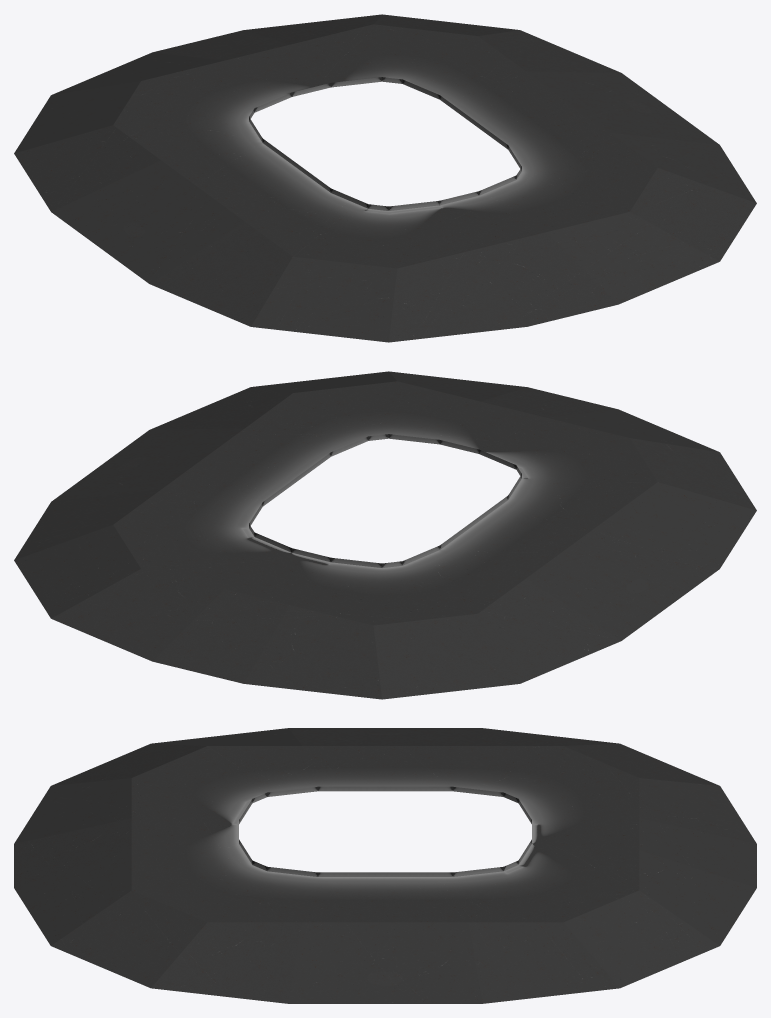
File: ceiling.FBX
The picture shows the model from 3 angles, top to bottom: view 1: azimuth 30°, elevation 25°; view 2: azimuth 150°, elevation 25°; view 3: azimuth 270°, elevation 25°; orthographic projection.
Parts seen in each view (by area): view 1: Roof; view 2: Roof; view 3: Roof.
Part boxes in pixels (x1,y1,x2,y2): Roof: (14, 14, 756, 342); Roof: (14, 371, 756, 699); Roof: (14, 728, 756, 1003).
Bounding box in the file's own units: 9388 × 577 × 10688.
